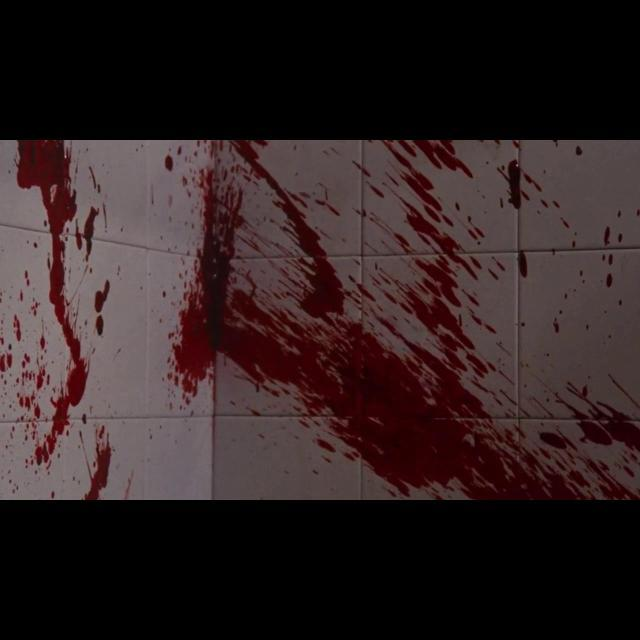blood: (0, 140, 640, 499)
